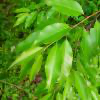Cherry leaf: (29, 22, 75, 50), (6, 45, 47, 73), (44, 44, 62, 96), (80, 27, 94, 77), (28, 51, 43, 87)
